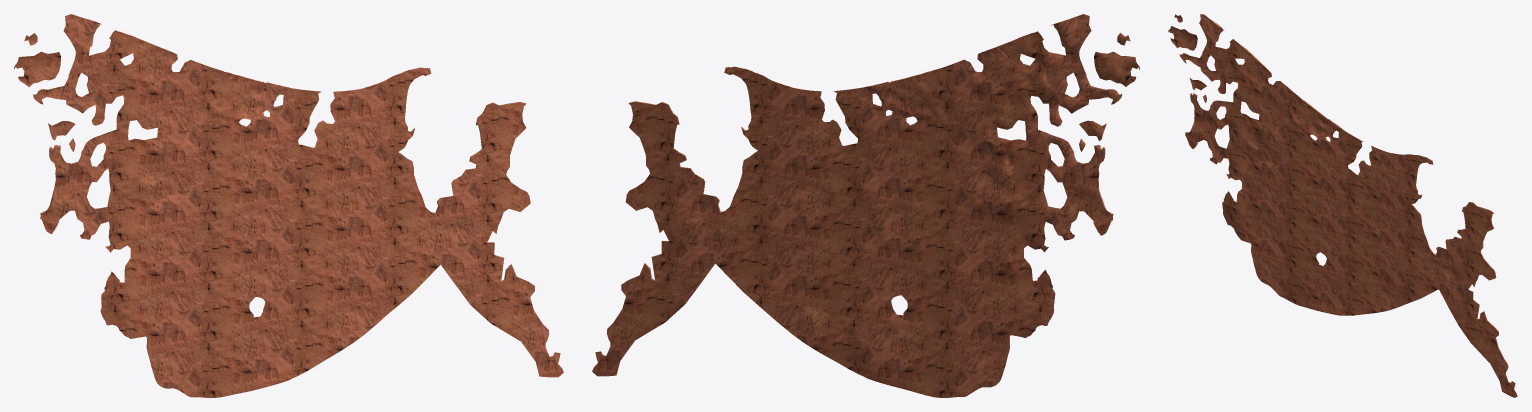
3 renders of one model, left to right at view 1: azimuth 30°, elevation 25°; view 2: azimuth 150°, elevation 25°; view 3: azimuth 330°, elevation 25°, orthographic. The views are drawn at different scales.
Size of the model in its own units: 24213 by 20300 by 270.
Materials: 23 (23 with a texture image).
